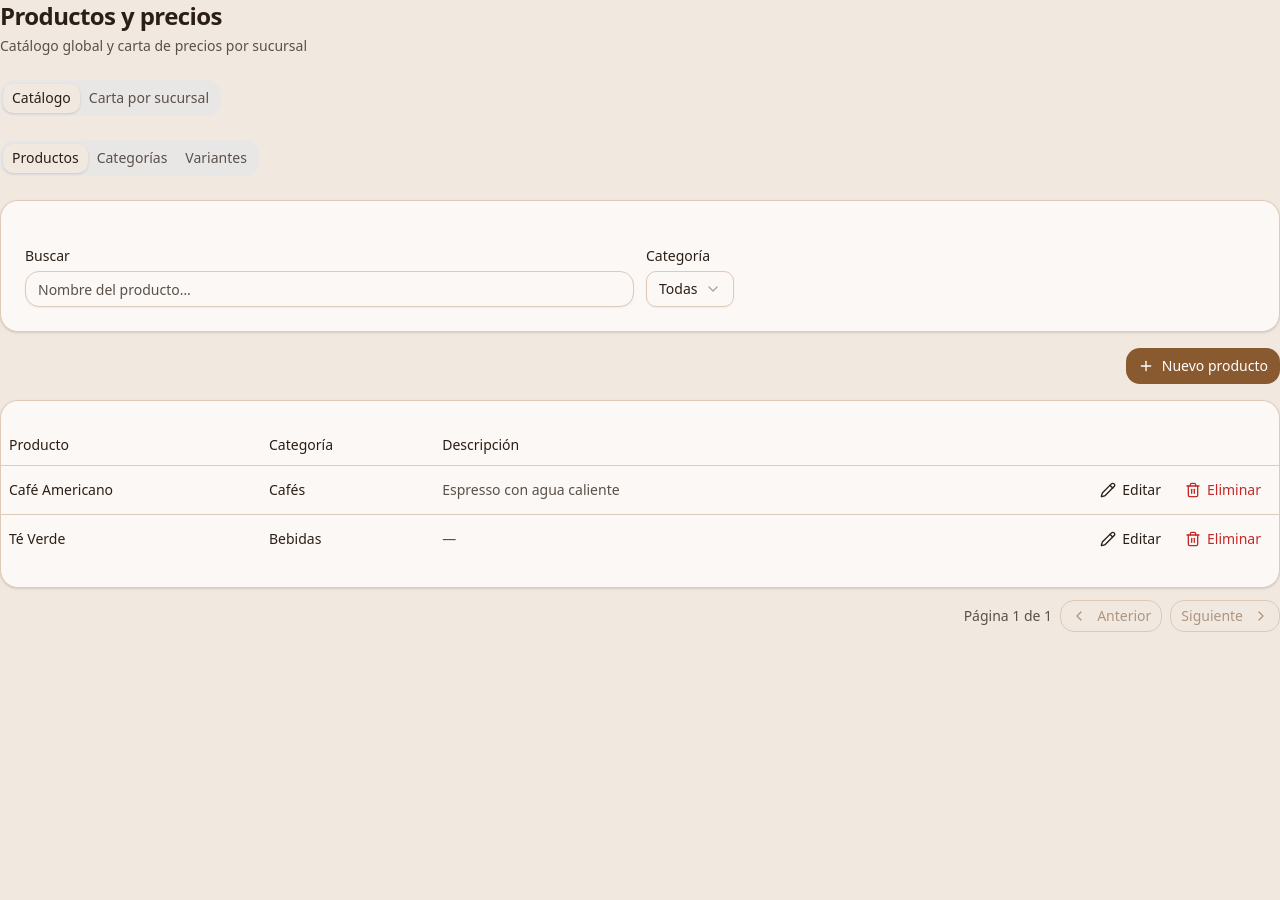
Test: Catálogo de productos › muestra el 409 al eliminar un producto con precios
Click the button "Eliminar" in the row of "Café Americano" at {"x": 1223, "y": 490}, box [1175,474,1271,506]
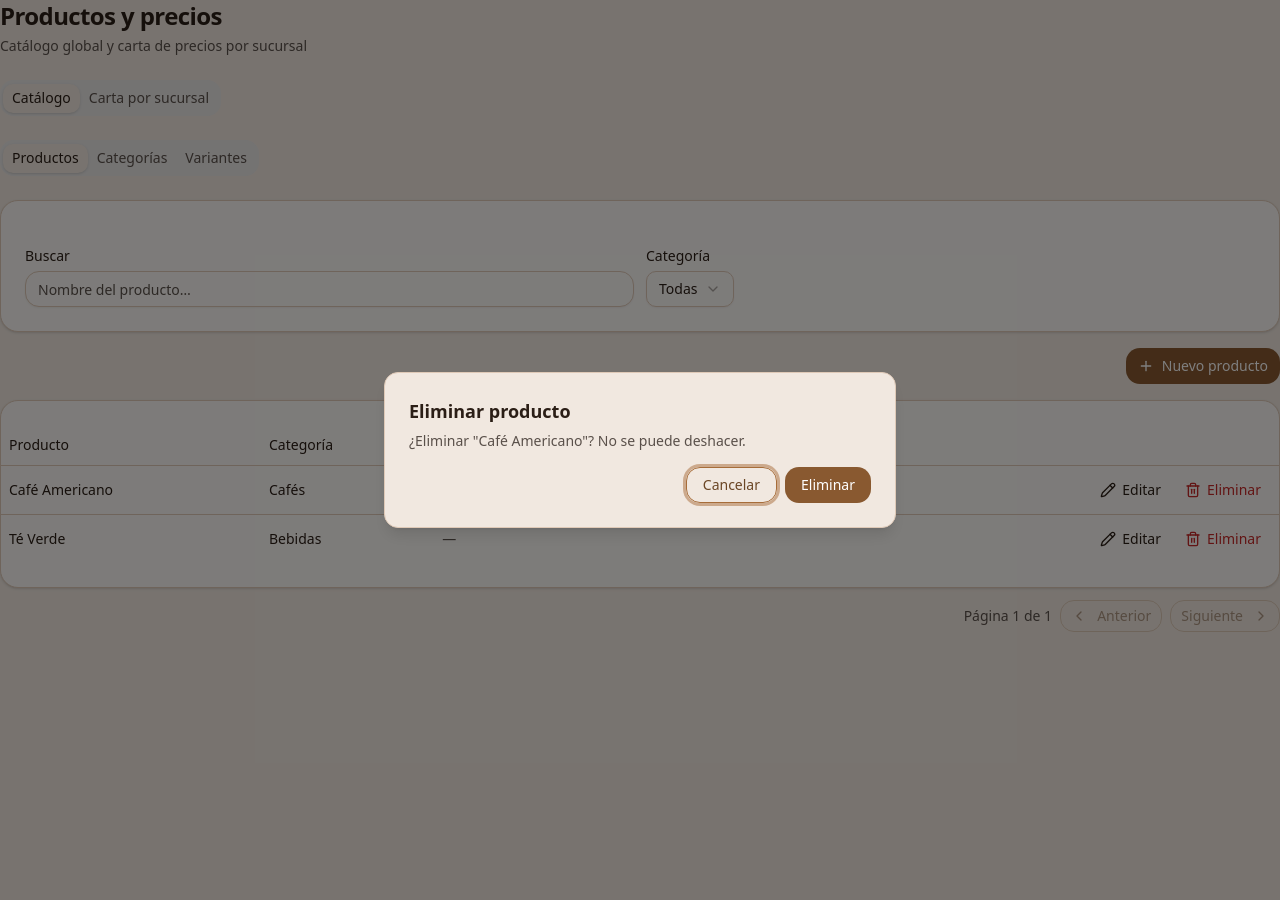
Click the button "Eliminar" at {"x": 828, "y": 485}, box [785,467,871,503]
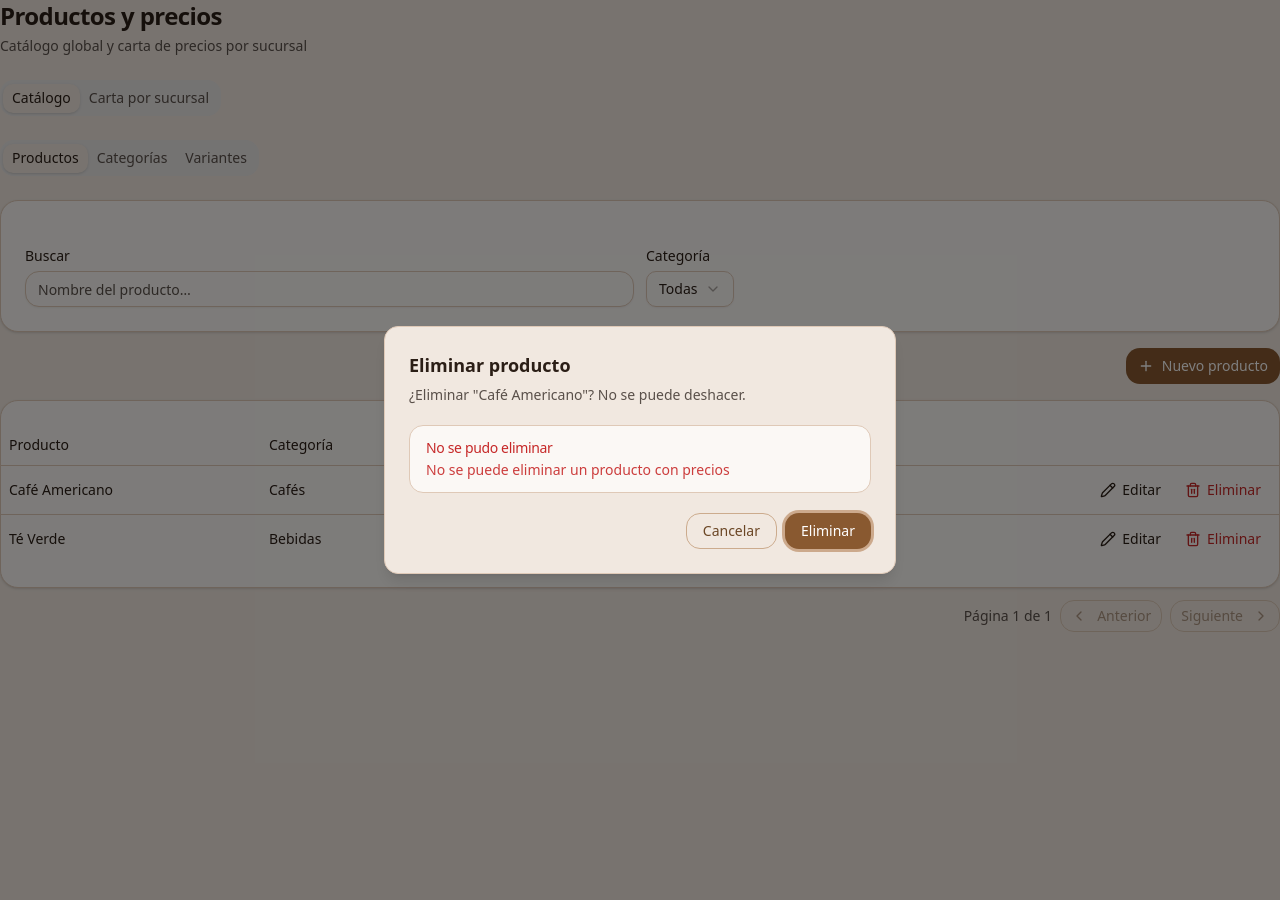
Expected: the text "No se puede eliminar un producto con precios" is shown, [426,460,730,479]
